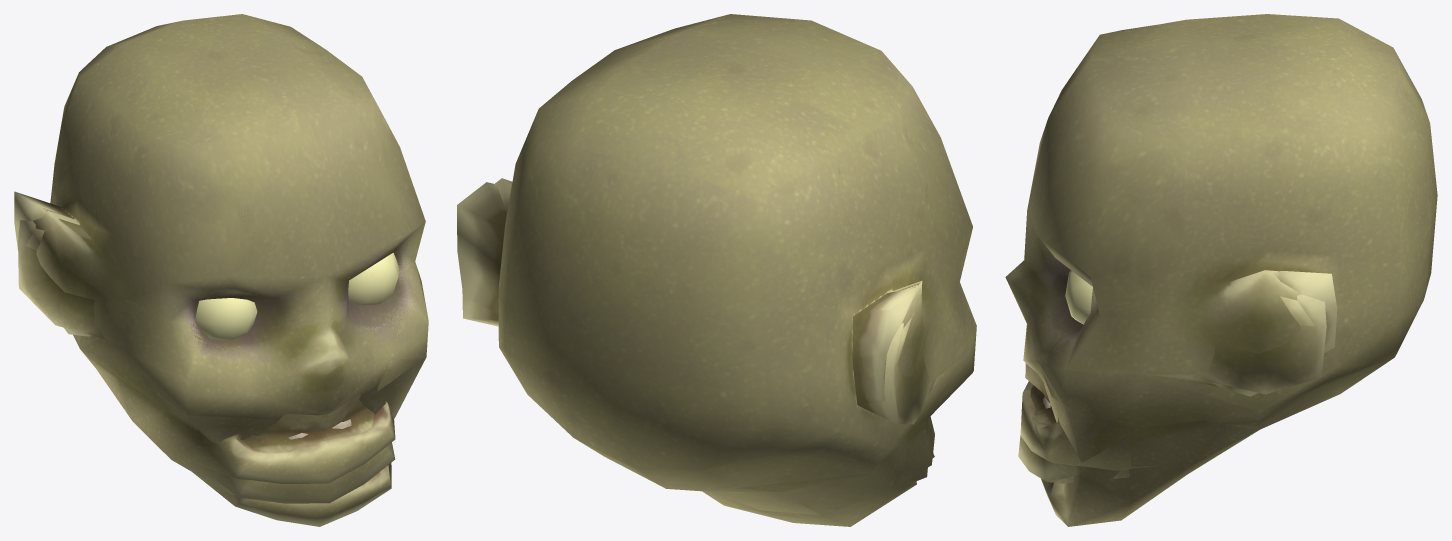
File: zombie_heads.fbx
3 renders of one model, left to right at view 1: azimuth 30°, elevation 25°; view 2: azimuth 150°, elevation 25°; view 3: azimuth 270°, elevation 25°, orthographic. The views are drawn at different scales.
Parts seen in each view (by area): view 1: zombie_head_1_low.002, zombie_head_3_low.001, zombie_head_2_low.002, zombie_head_4_low.002; view 2: zombie_head_1_low.002, zombie_head_3_low.001, zombie_head_2_low.002, zombie_head_4_low.002; view 3: zombie_head_1_low.002, zombie_head_3_low.001, zombie_head_2_low.002, zombie_head_4_low.002.
Boxes of the visible parts, left/top/right/bottom form: zombie_head_1_low.002: left=33, top=14, right=428, bottom=494; zombie_head_3_low.001: left=18, top=14, right=428, bottom=526; zombie_head_2_low.002: left=14, top=191, right=395, bottom=483; zombie_head_4_low.002: left=26, top=228, right=419, bottom=503; zombie_head_1_low.002: left=493, top=14, right=976, bottom=515; zombie_head_3_low.001: left=462, top=15, right=972, bottom=526; zombie_head_2_low.002: left=457, top=182, right=966, bottom=485; zombie_head_4_low.002: left=735, top=317, right=934, bottom=492; zombie_head_1_low.002: left=1005, top=14, right=1437, bottom=483; zombie_head_3_low.001: left=1006, top=14, right=1437, bottom=526; zombie_head_2_low.002: left=1020, top=270, right=1337, bottom=470; zombie_head_4_low.002: left=1018, top=296, right=1314, bottom=482.
Size of the model in its own units: 102 by 116 by 99.59.
Materials: 2 (1 with a texture image).
